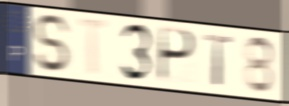3: (116, 22, 155, 83)
8: (243, 35, 276, 96)
P: (156, 25, 197, 85)
S: (31, 12, 73, 75)
T: (75, 15, 112, 78), (202, 32, 235, 89)
